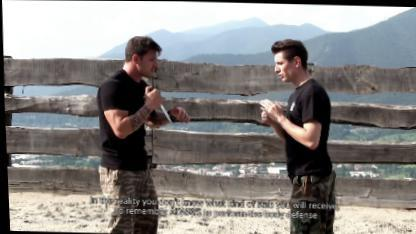knife: (143, 83, 172, 124)
